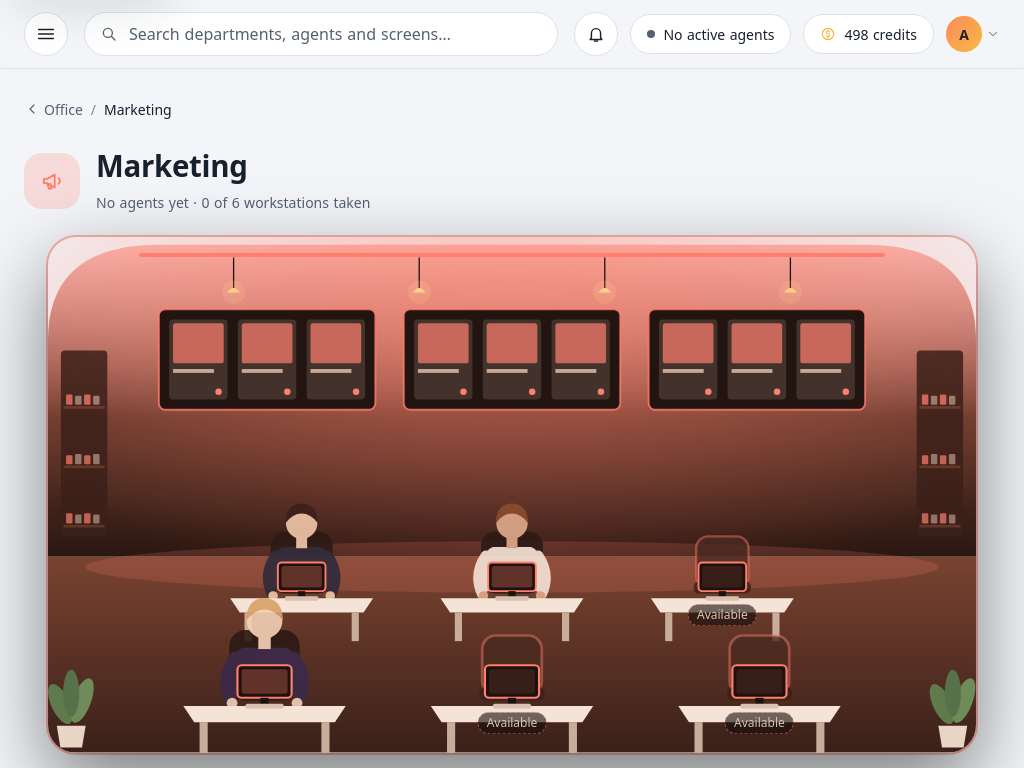
Test case: ambient figures (ADR-0042) › never sit at the Home’s desks, and stay decoration in a department’s office
The width and height of the screenshot is (1024, 768).
Expected: the element with class "topbar__agents" reads "No active agents", [663, 24, 774, 44]
Their desks are still free workstations, with the same options as any other.
Click the button named "Workstation 1. Available workstation".
click(302, 569)  # box [245, 508, 358, 630]
(page scrolled)
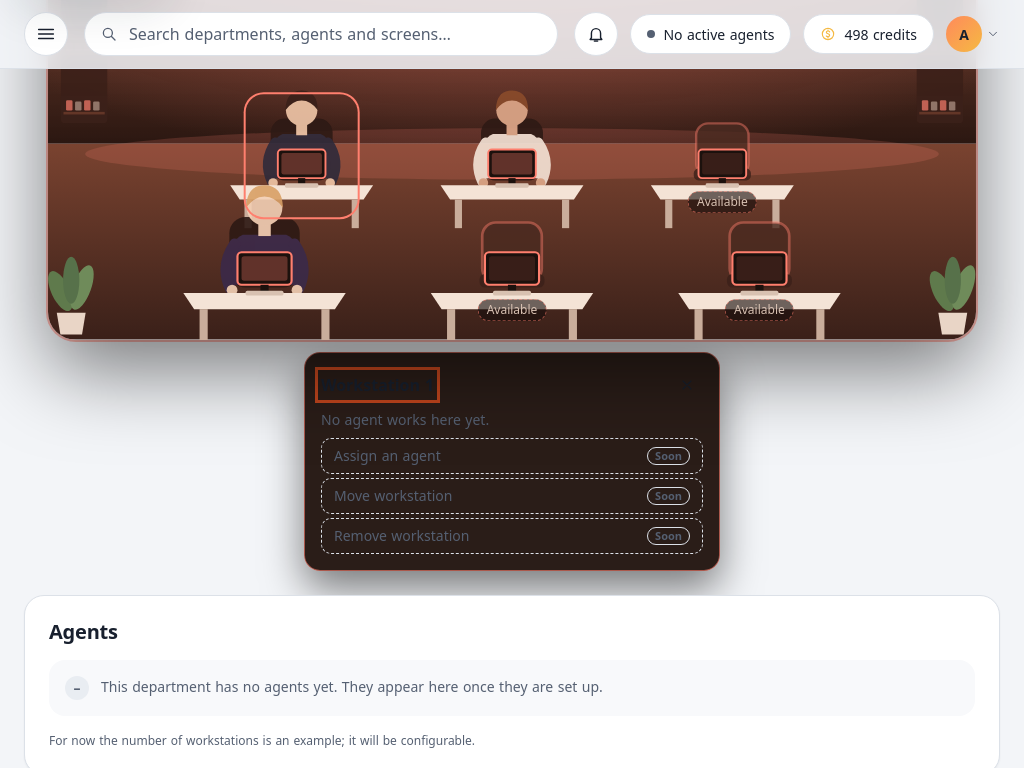
Expected: the dialog "Workstation 1" is shown, [304, 352, 720, 571]
